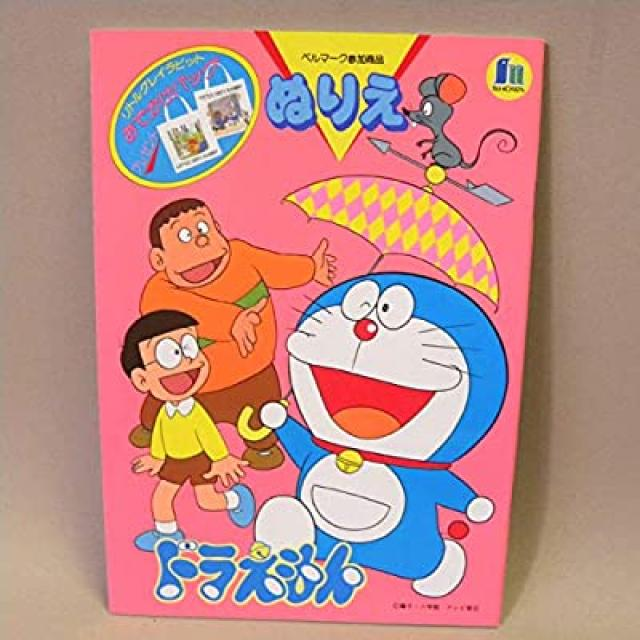doraemon: (284, 267, 511, 480)
jaian: (138, 195, 232, 290)
nobita: (117, 309, 211, 421)
